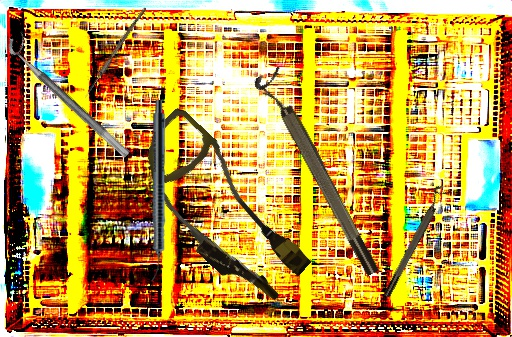Cannula: (114, 105, 328, 314)
Fixation Ring: (252, 66, 383, 283), (2, 28, 140, 160), (376, 182, 452, 300)
Handpiece: (149, 100, 166, 281)
Surgical Spoon: (83, 5, 147, 100)
